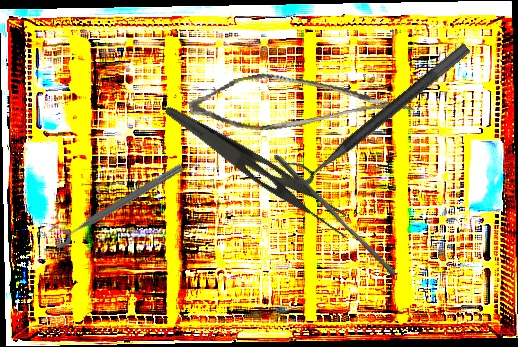Dressing Forceps: (152, 104, 361, 241)
Fixation Ring: (281, 27, 472, 192), (46, 152, 186, 251)
Micro Scissor: (185, 43, 416, 156)
Pusher: (268, 152, 401, 278)
